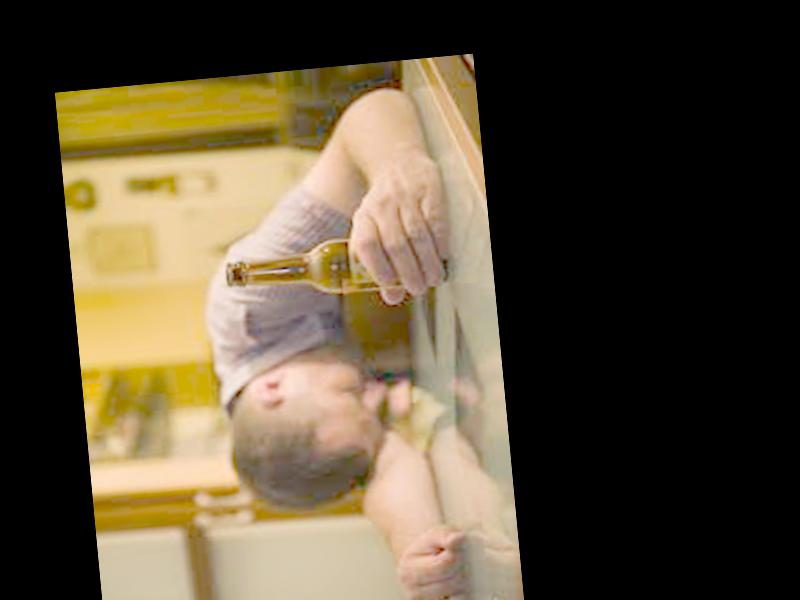Beer: (222, 232, 450, 302)
